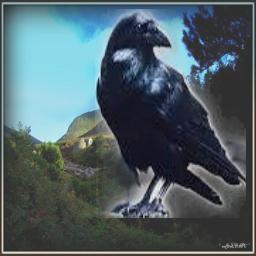Crow: (95, 9, 246, 218)
